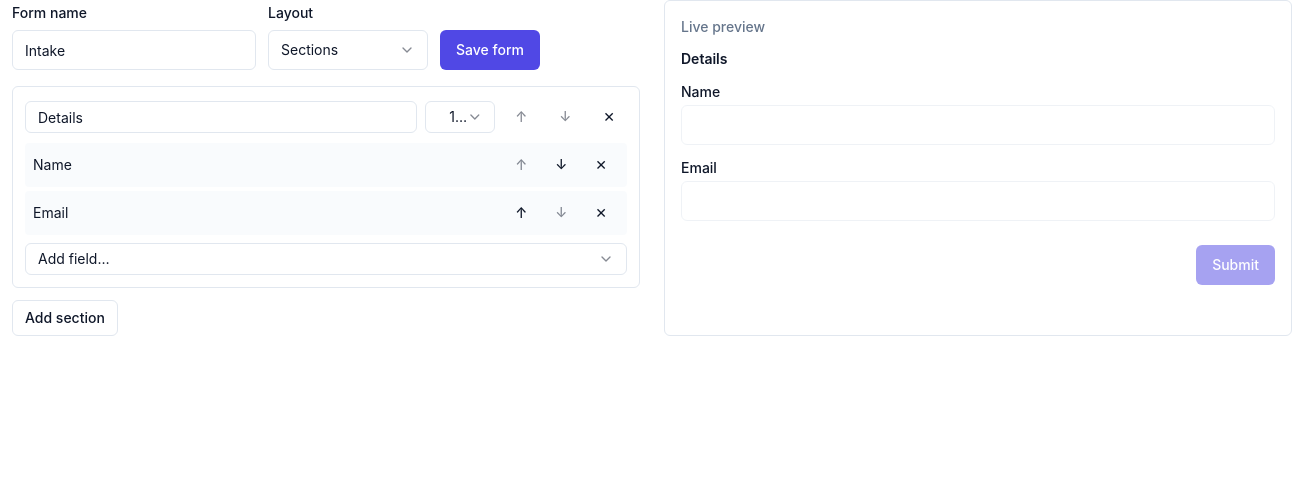
Scenario: FormBuilder › adds a section
Check: the field named "Section 1 title" is shown, box [25, 101, 417, 133]
Click the button "Add section" at (65, 318), box [12, 300, 118, 336]
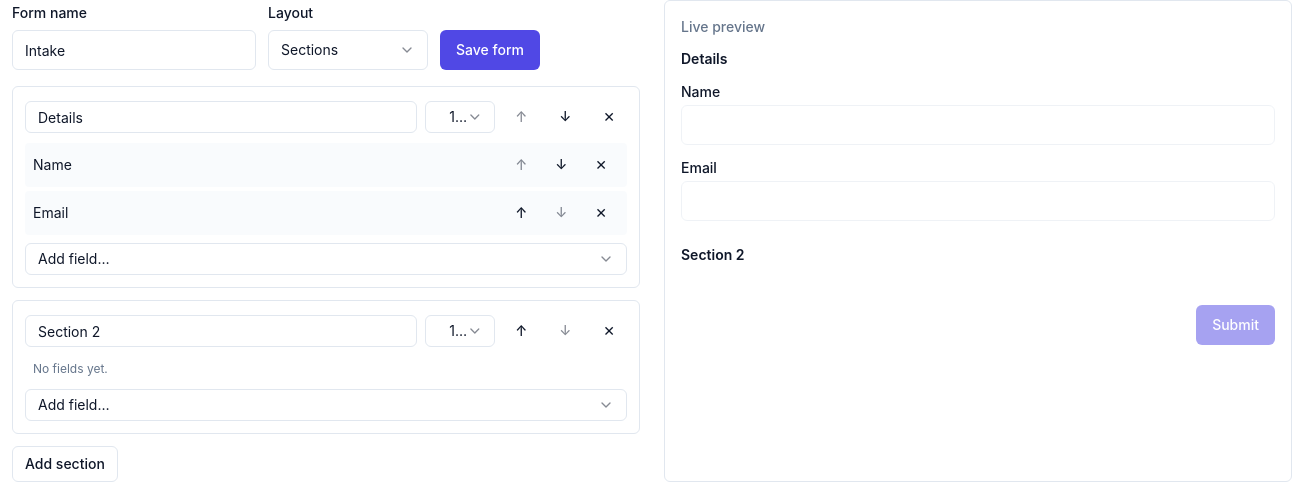
Check: the field named "Section 2 title" is shown, box [25, 315, 417, 347]
